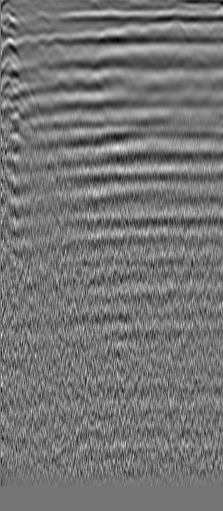오수: (32, 8, 52, 28)
우수: (165, 18, 189, 39)
